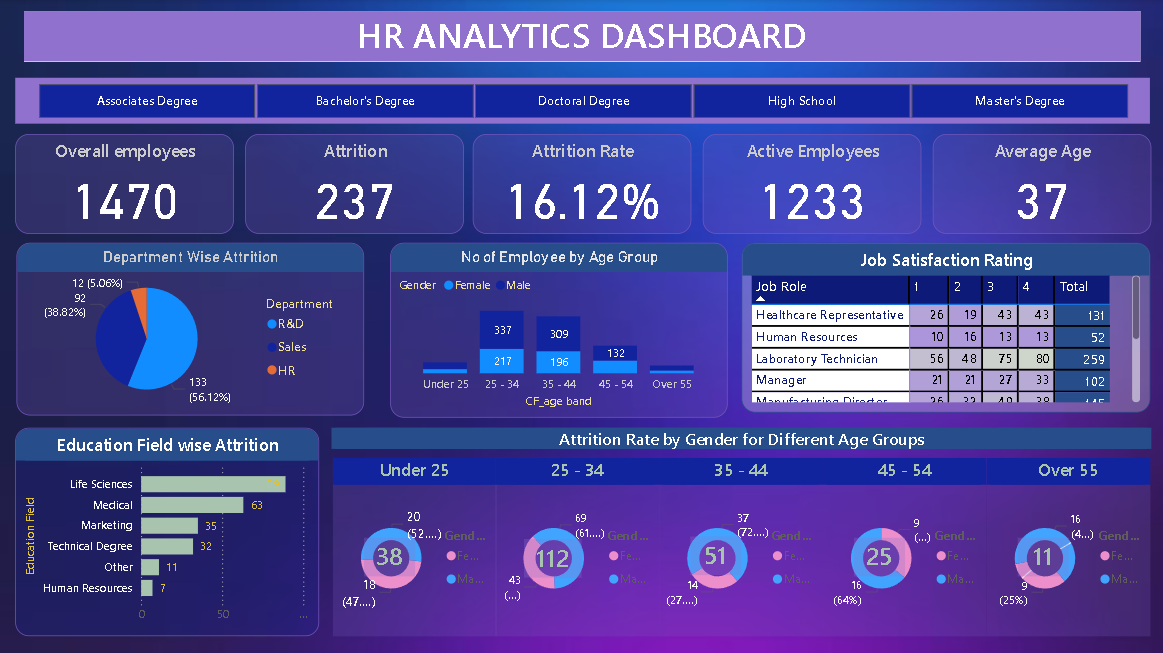

What the dashboard file says about the page in this screenshot:
{"tool":"powerbi","page":{"name":"Page 1","canvas":[1280,720],"ordinal":0},"visuals":[{"type":"card","title":"Overall employees","fields":{"Values":["Sum(HR data.Employee Count)"]},"box":[17.8,148.2,240.1,109.8],"z":0},{"type":"card","title":"Attrition","fields":{"Values":["Sum(HR data.Attrition Count)"]},"box":[270.3,148.2,240.1,109.8],"z":1000},{"type":"card","title":"Attrition Rate","fields":{"Values":["HR data.Attrition Rate"]},"box":[520.1,148.2,240.1,109.8],"z":2000},{"type":"card","title":"Active Employees","fields":{"Values":["HR data.Active Employees"]},"box":[772.6,148.2,240.1,109.8],"z":3000},{"type":"card","title":"Average Age","fields":{"Values":["Avg(HR data.Age)"]},"box":[1025,148.2,240.1,109.8],"z":4000},{"type":"pieChart","title":"Department Wise Attrition","fields":{"Category":["HR data.Department"],"Y":["Sum(HR data.Attrition Count)"]},"box":[19.2,267.6,381.5,189.4],"z":5000},{"type":"columnChart","title":"No of Employee by Age Group","fields":{"Category":["HR data.CF_age band"],"Y":["Sum(HR data.Employee Count)"],"Series":["HR data.Gender"]},"box":[429.5,267.6,370.5,192.1],"z":6000},{"type":"pivotTable","title":"Job Satisfaction Rating","fields":{"Rows":["HR data.Job Role"],"Columns":["HR data.Job Satisfaction"],"Values":["Sum(HR data.Employee Count)"]},"box":[815.1,267.6,448.7,186.6],"z":7000},{"type":"clusteredBarChart","title":"Education Field wise Attrition","fields":{"Category":["HR data.Education Field"],"Y":["Sum(HR data.Attrition Count)"]},"box":[17.8,470.7,333.4,229.2],"z":8000},{"type":"donutChart","title":"Under 25","fields":{"Category":["HR data.Gender"],"Y":["Sum(HR data.Attrition Count)"],"Series":["HR data.CF_age band"]},"box":[366.4,503.6,179.8,196.2],"z":9000},{"type":"textbox","title":"Attrition Rate by Gender for Different Age Groups","box":[365,470.7,900.2,23.3],"z":10000},{"type":"donutChart","title":"25 - 34","fields":{"Category":["HR data.Gender"],"Y":["Sum(HR data.Attrition Count)"],"Series":["HR data.CF_age band"]},"box":[544.8,503.6,179.8,196.2],"z":11000},{"type":"donutChart","title":"35 - 44","fields":{"Category":["HR data.Gender"],"Y":["Sum(HR data.Attrition Count)"],"Series":["HR data.CF_age band"]},"box":[724.5,503.6,179.8,196.2],"z":12000},{"type":"donutChart","title":"45 - 54","fields":{"Category":["HR data.Gender"],"Y":["Sum(HR data.Attrition Count)"],"Series":["HR data.CF_age band"]},"box":[904.3,503.6,179.8,196.2],"z":13000},{"type":"donutChart","title":"Over 55","fields":{"Category":["HR data.Gender"],"Y":["Sum(HR data.Attrition Count)"],"Series":["HR data.CF_age band"]},"box":[1084.1,503.6,179.8,196.2],"z":14000},{"type":"card","fields":{"Values":["Sum(HR data.Attrition Count)"]},"box":[576.3,592.8,63.1,42.5],"z":15000},{"type":"card","fields":{"Values":["Sum(HR data.Attrition Count)"]},"box":[758.8,590.1,56.3,42.5],"z":16000},{"type":"card","fields":{"Values":["Sum(HR data.Attrition Count)"]},"box":[938.6,591.4,56.3,42.5],"z":17000},{"type":"card","fields":{"Values":["Sum(HR data.Attrition Count)"]},"box":[1118.4,591.4,56.3,42.5],"z":18000},{"type":"card","fields":{"Values":["Sum(HR data.Attrition Count)"]},"box":[400.7,591.4,56.3,42.5],"z":19000},{"type":"textbox","title":"HR ANALYTICS DASHBOARD","box":[27.4,13.7,1225.4,54.9],"z":20000},{"type":"slicer","fields":{"Values":["HR data.Education"]},"box":[17.8,86.4,1246,50.8],"z":21000}]}

Visuals, with their boxes in screenshot pixels (x1, y1, x2, y2), scaled from the page's 1280x720 canvas onto the 1163x653 screenshot:
"Overall employees" card: BBox(16, 134, 234, 234)
"Attrition" card: BBox(246, 134, 464, 234)
"Attrition Rate" card: BBox(473, 134, 691, 234)
"Active Employees" card: BBox(702, 134, 920, 234)
"Average Age" card: BBox(931, 134, 1149, 234)
"Department Wise Attrition" pieChart: BBox(17, 243, 364, 414)
"No of Employee by Age Group" columnChart: BBox(390, 243, 727, 417)
"Job Satisfaction Rating" pivotTable: BBox(741, 243, 1148, 412)
"Education Field wise Attrition" clusteredBarChart: BBox(16, 427, 319, 635)
"Under 25" donutChart: BBox(333, 457, 496, 635)
"Attrition Rate by Gender for Different Age Groups" textbox: BBox(332, 427, 1150, 448)
"25 - 34" donutChart: BBox(495, 457, 658, 635)
"35 - 44" donutChart: BBox(658, 457, 822, 635)
"45 - 54" donutChart: BBox(822, 457, 985, 635)
"Over 55" donutChart: BBox(985, 457, 1148, 635)
card - Sum(HR data.Attrition Count): BBox(524, 538, 581, 576)
card - Sum(HR data.Attrition Count): BBox(689, 535, 741, 574)
card - Sum(HR data.Attrition Count): BBox(853, 536, 904, 575)
card - Sum(HR data.Attrition Count): BBox(1016, 536, 1067, 575)
card - Sum(HR data.Attrition Count): BBox(364, 536, 415, 575)
"HR ANALYTICS DASHBOARD" textbox: BBox(25, 12, 1138, 62)
slicer - HR data.Education: BBox(16, 78, 1148, 124)
